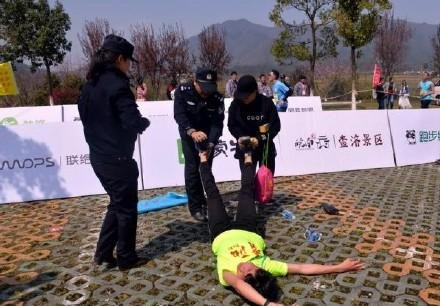fall: (174, 142, 369, 300)
